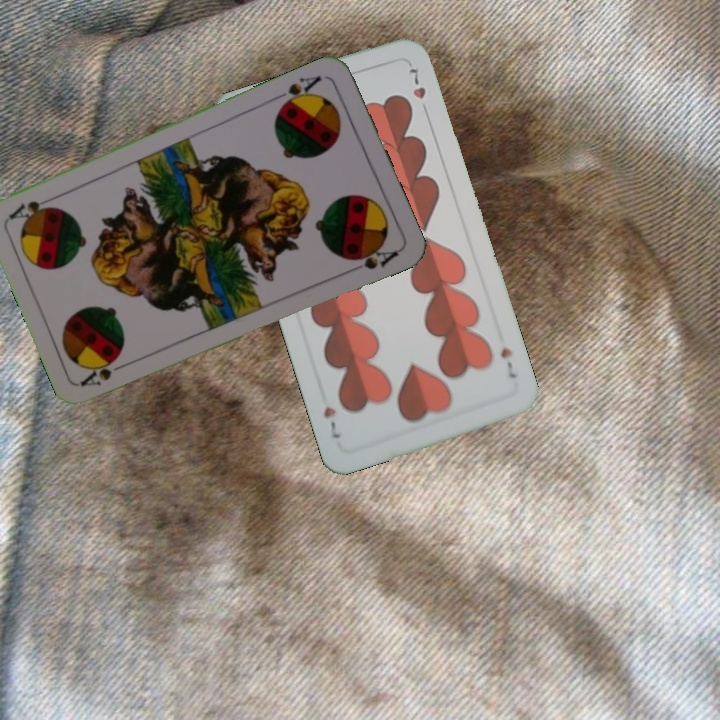H7: (496, 343, 519, 381)
SA: (271, 71, 324, 112), (77, 353, 134, 389)
